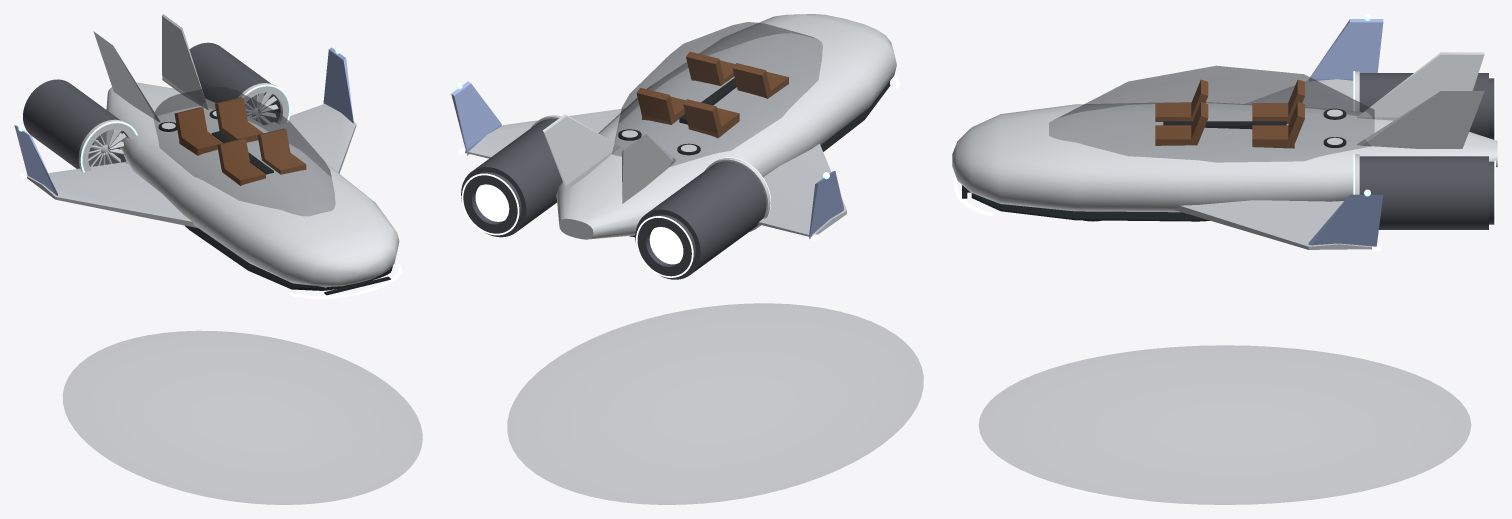
The model's file is escena-nave.glb.
The picture shows the model from 3 angles, left to right: view 1: azimuth 30°, elevation 25°; view 2: azimuth 150°, elevation 25°; view 3: azimuth 270°, elevation 25°; orthographic projection. The views are drawn at different scales.
Visible parts, largest first — view 1: nave, suelo__sombra; view 2: nave, suelo__sombra; view 3: nave, suelo__sombra.
Part boxes in pixels (x1,y1,x2,y2): nave: (14, 14, 401, 299); suelo__sombra: (63, 331, 422, 504); nave: (451, 14, 899, 279); suelo__sombra: (507, 303, 923, 504); nave: (952, 14, 1497, 250); suelo__sombra: (979, 345, 1470, 504).
Size of the model in its own units: 1.23 by 1.14 by 1.59.
